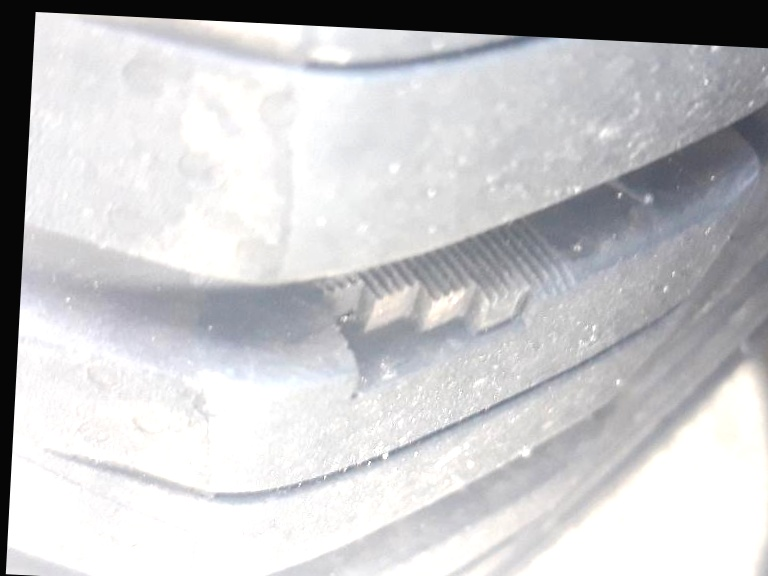temoin:80: (286, 195, 595, 423)
